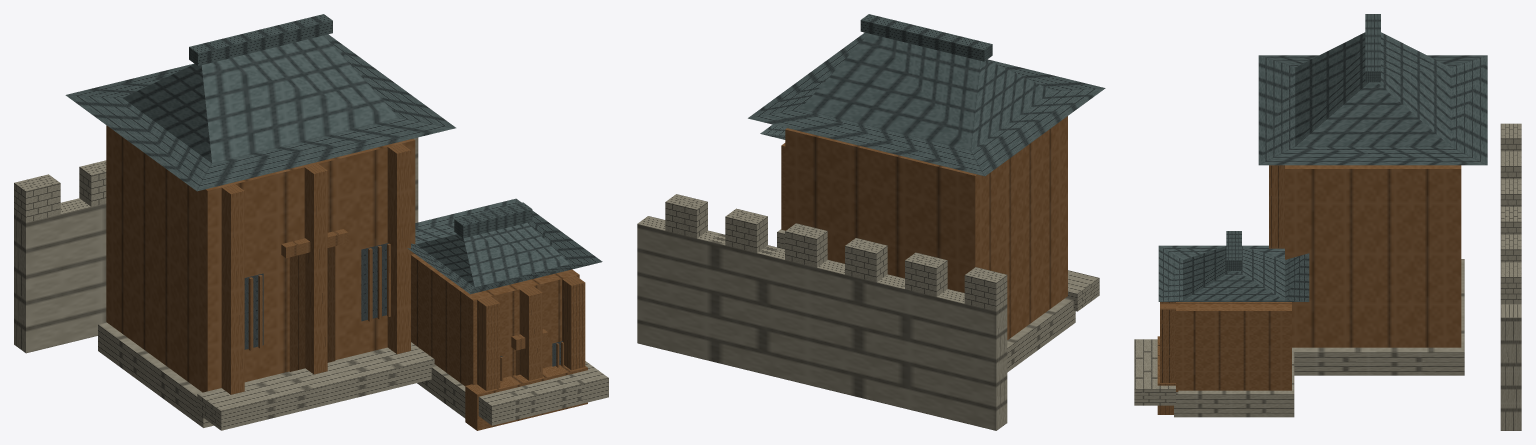
The model's file is domestic-STABLE-3-lod0.glb.
The picture shows the model from 3 angles, left to right: view 1: azimuth 30°, elevation 25°; view 2: azimuth 150°, elevation 25°; view 3: azimuth 270°, elevation 25°; orthographic projection. The views are drawn at different scales.
Bounding box in the file's own units: 0.85 × 0.691 × 0.835.
Materials: 1 (1 with a texture image).
